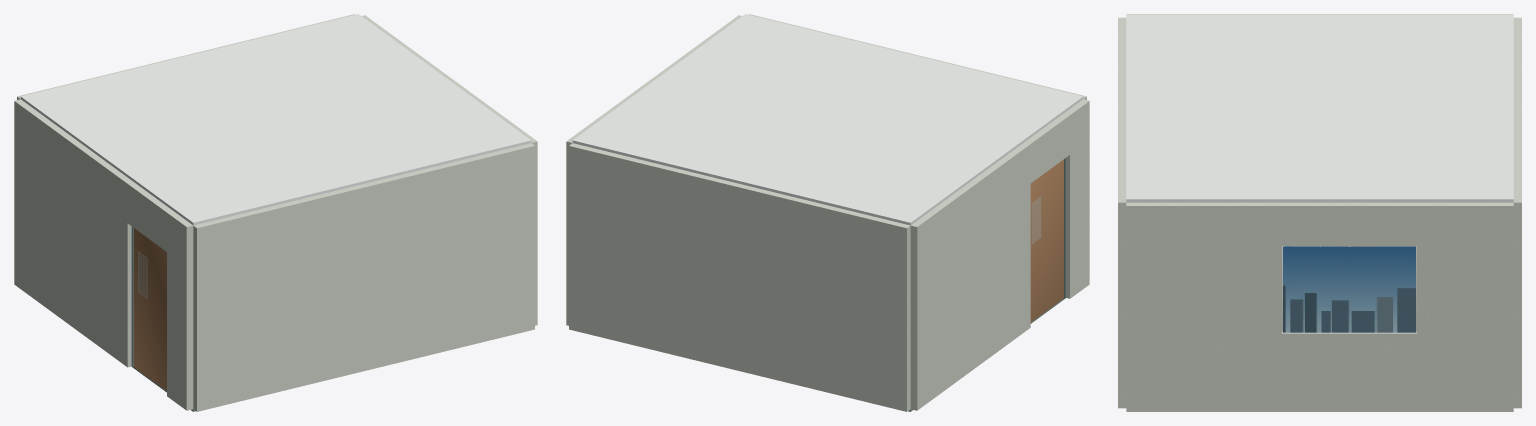
3 renders of one model, left to right at view 1: azimuth 30°, elevation 25°; view 2: azimuth 150°, elevation 25°; view 3: azimuth 270°, elevation 25°, orthographic. The views are drawn at different scales.
Visible parts, largest first — view 1: Wall_Front, Ceiling, Wall_Left, Door, Wall_Right, Wall_Back; view 2: Wall_Back, Ceiling, Wall_Left, Door, Wall_Right, Wall_Front; view 3: Ceiling, Wall_Right, Window_View, Wall_Back, Wall_Front, Wall_Left.
Boxes of the visible parts, x1,y1,x2,y2 form: Wall_Front: (193, 143, 534, 411); Ceiling: (20, 14, 531, 225); Wall_Left: (14, 99, 193, 410); Door: (133, 228, 166, 390); Wall_Right: (362, 15, 537, 325); Wall_Back: (17, 14, 355, 99); Wall_Back: (569, 143, 910, 411); Ceiling: (572, 14, 1083, 225); Wall_Left: (910, 99, 1089, 410); Door: (1030, 159, 1063, 322); Wall_Right: (566, 15, 741, 325); Wall_Front: (748, 14, 1086, 99); Ceiling: (1126, 14, 1513, 202); Wall_Right: (1126, 202, 1513, 411); Window_View: (1283, 246, 1415, 332); Wall_Back: (1513, 17, 1521, 408); Wall_Front: (1118, 17, 1126, 408); Wall_Left: (1126, 14, 1513, 14).
Size of the model in its own units: 5.4 by 2.78 by 4.8.
Materials: 136 (15 with a texture image).
